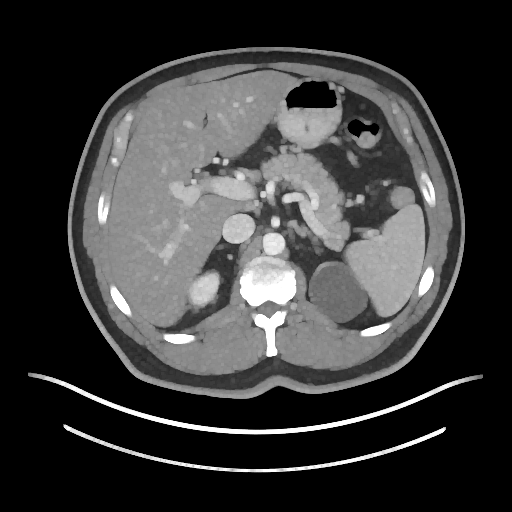Lesion: (303, 259, 371, 325)
